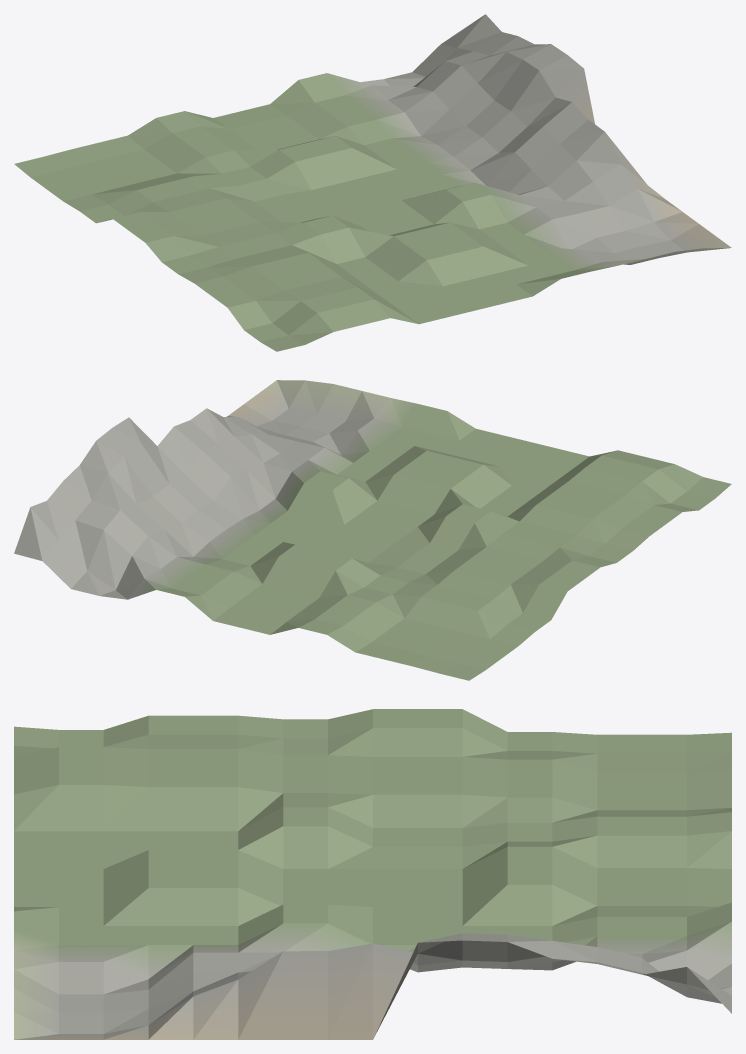
The picture shows the model from 3 angles, top to bottom: view 1: azimuth 30°, elevation 25°; view 2: azimuth 150°, elevation 25°; view 3: azimuth 270°, elevation 25°; orthographic projection. The views are drawn at different scales.
Bounding box in the file's own units: 32 × 5.63 × 32.
